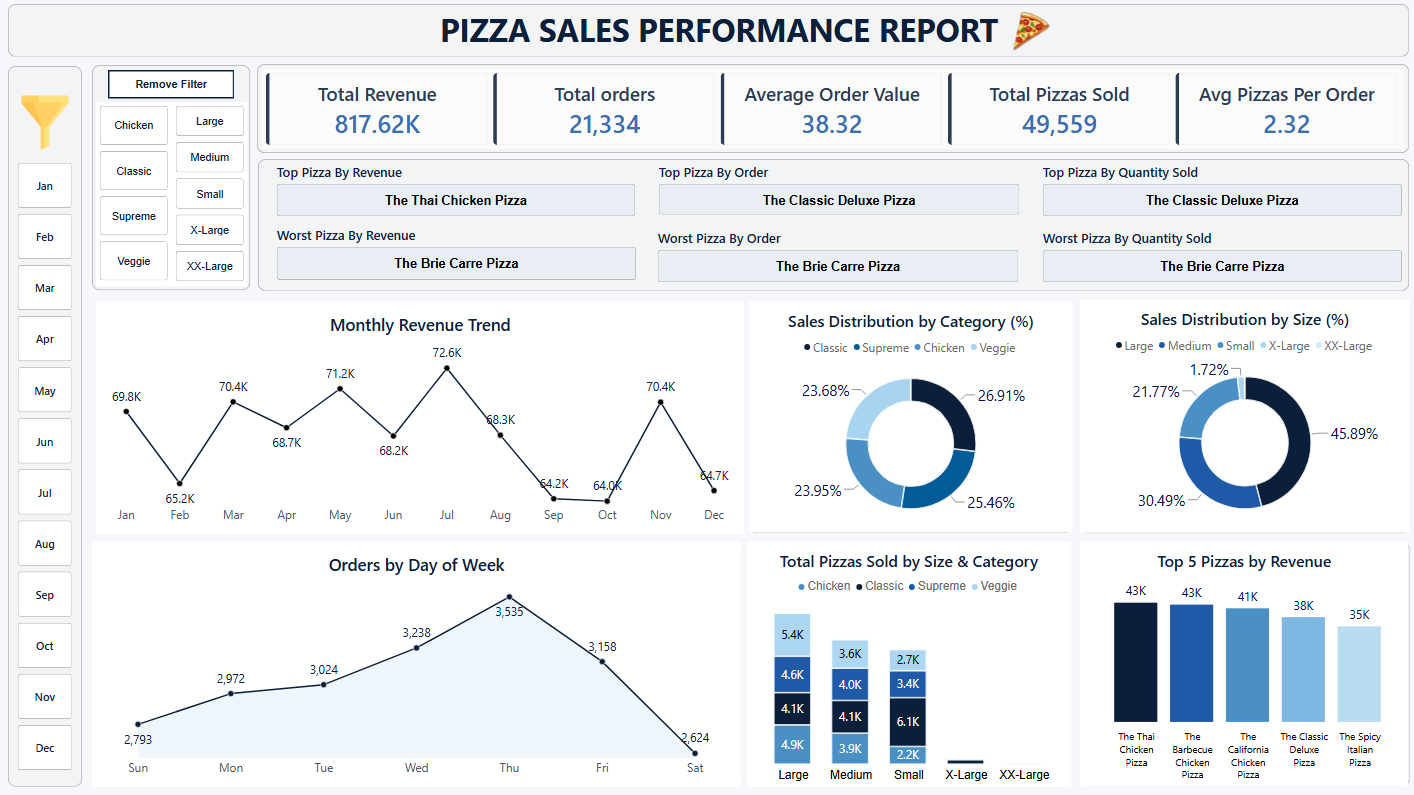

The page's visual inventory and layout, read from the dashboard file:
{"tool":"powerbi","page":{"name":"Pizza_Sale_Dashboard","canvas":[1920,1080],"ordinal":0},"visuals":[{"type":"shape","box":[138.8,410.3,875,311.2],"z":0},{"type":"shape","box":[133.4,90.5,213.5,304.1],"z":1000},{"type":"shape","box":[358.1,217.6,1554.1,178.4],"z":2000},{"type":"shape","box":[20,8.6,1891.4,71.4],"z":3000},{"type":"image","box":[1367.2,14.9,64.8,60.8],"z":4000},{"type":"textbox","box":[592.6,8.1,774.9,71.5],"z":5000},{"type":"cardVisual","fields":{"Data":["public pizza_sales.Total_Revenue","public pizza_sales.Total_orders","public pizza_sales.Avg_Order_Value","public pizza_sales.Total_Pizza_Sold","public pizza_sales.Avg_Pizza_per_Order"]},"box":[363.5,95.9,1541.9,108.1],"z":6000},{"type":"shape","box":[19.9,91.9,100,973],"z":7000},{"type":"advancedSlicerVisual","title":"Top Pizza By Order","fields":{"Values":["public pizza_sales.pizza_name"]},"box":[893.2,223,497.3,75.7],"z":8000},{"type":"advancedSlicerVisual","title":"Top Pizza By Quantity Sold","fields":{"Values":["public pizza_sales.pizza_name"]},"box":[1412.2,223,495.9,77],"z":9000},{"type":"advancedSlicerVisual","title":"Top Pizza By Revenue","fields":{"Values":["public pizza_sales.pizza_name"]},"box":[378.4,223,494.6,77],"z":10000},{"type":"shape","box":[356.4,89.2,1555.4,120.3],"z":11000},{"type":"shape","box":[133.4,735.1,875.7,329.7],"z":12000},{"type":"shape","box":[1020.6,410.3,436.5,312.2],"z":13000},{"type":"shape","box":[1467.9,407.6,444.6,314.9],"z":14000},{"type":"shape","box":[1018.6,735.1,436.5,329.7],"z":15000},{"type":"shape","box":[1467,734,445.4,329.9],"z":16000},{"type":"advancedSlicerVisual","title":"Worst Pizza By Order","fields":{"Values":["public pizza_sales.pizza_name"]},"box":[891.9,312.2,497.3,77],"z":17000},{"type":"advancedSlicerVisual","title":"Worst Pizza By Revenue","fields":{"Values":["public pizza_sales.pizza_name"]},"box":[378.4,308.1,495.9,78.4],"z":18000},{"type":"advancedSlicerVisual","title":"Worst Pizza By Quantity Sold","fields":{"Values":["public pizza_sales.pizza_name"]},"box":[1412.2,312.2,495.9,77],"z":19000},{"type":"advancedSlicerVisual","fields":{"Values":["public pizza_sales.Month Name"]},"box":[28.4,217.6,83.8,841.9],"z":20000},{"type":"image","box":[33.8,125.7,73,85.1],"z":21000},{"type":"advancedSlicerVisual","fields":{"Values":["public pizza_sales.pizza_category"]},"box":[139.2,140.5,102.7,248.6],"z":22000},{"type":"advancedSlicerVisual","fields":{"Values":["public pizza_sales.pizza_size"]},"box":[241.8,140.2,102.5,249.2],"z":23000},{"type":"actionButton","title":"njytujytujt","box":[154.9,97.5,170.5,38.5],"z":24000},{"type":"lineChart","title":"Monthly Revenue Trend","fields":{"Y":["Sum(public pizza_sales.total_price)"],"Category":["public pizza_sales.Month Name"]},"box":[139.2,410.3,875.3,313.4],"z":25000},{"type":"lineChart","title":"Orders by Day of Week","fields":{"Y":["public pizza_sales.Total_orders"],"Category":["public pizza_sales.Day Name"]},"box":[133,734,876.3,330.9],"z":26000},{"type":"donutChart","title":"Sales Distribution by Category (%)","fields":{"Y":["Sum(public pizza_sales.total_price)"],"Category":["public pizza_sales.pizza_category"]},"box":[1020.6,410.3,437.1,311.3],"z":27000},{"type":"donutChart","title":"Sales Distribution by Size (%)","fields":{"Y":["Sum(public pizza_sales.total_price)"],"Category":["public pizza_sales.pizza_size"]},"box":[1467,407.2,445.4,314.4],"z":28000},{"type":"columnChart","title":"Total Pizzas Sold by Size & Category","fields":{"Category":["public pizza_sales.pizza_size"],"Y":["Sum(public pizza_sales.quantity)"],"Series":["public pizza_sales.pizza_category"]},"box":[1018.6,734,437.1,330.9],"z":29000},{"type":"columnChart","title":"Top 5 Pizzas by Revenue","fields":{"Category":["public pizza_sales.pizza_name"],"Y":["Sum(public pizza_sales.total_price)"]},"box":[1467,734,443.3,329.9],"z":30000}]}

Visuals, with their boxes in screenshot pixels (x1, y1, x2, y2), scaled from the page's 1920x1080 canvas onto the 1414x795 screenshot:
shape: left=102, top=302, right=747, bottom=531
shape: left=98, top=67, right=255, bottom=290
shape: left=264, top=160, right=1408, bottom=292
shape: left=15, top=6, right=1408, bottom=59
image: left=1007, top=11, right=1055, bottom=56
textbox: left=436, top=6, right=1007, bottom=59
cardVisual - public pizza_sales.Total_Revenue x public pizza_sales.Total_orders: left=268, top=71, right=1403, bottom=150
shape: left=15, top=68, right=88, bottom=784
"Top Pizza By Order" advancedSlicerVisual: left=658, top=164, right=1024, bottom=220
"Top Pizza By Quantity Sold" advancedSlicerVisual: left=1040, top=164, right=1405, bottom=221
"Top Pizza By Revenue" advancedSlicerVisual: left=279, top=164, right=643, bottom=221
shape: left=262, top=66, right=1408, bottom=154
shape: left=98, top=541, right=743, bottom=784
shape: left=752, top=302, right=1073, bottom=532
shape: left=1081, top=300, right=1408, bottom=532
shape: left=750, top=541, right=1072, bottom=784
shape: left=1080, top=540, right=1408, bottom=783
"Worst Pizza By Order" advancedSlicerVisual: left=657, top=230, right=1023, bottom=286
"Worst Pizza By Revenue" advancedSlicerVisual: left=279, top=227, right=644, bottom=285
"Worst Pizza By Quantity Sold" advancedSlicerVisual: left=1040, top=230, right=1405, bottom=286
advancedSlicerVisual - public pizza_sales.Month Name: left=21, top=160, right=83, bottom=780
image: left=25, top=93, right=79, bottom=155
advancedSlicerVisual - public pizza_sales.pizza_category: left=103, top=103, right=178, bottom=286
advancedSlicerVisual - public pizza_sales.pizza_size: left=178, top=103, right=254, bottom=287
"njytujytujt" actionButton: left=114, top=72, right=240, bottom=100
"Monthly Revenue Trend" lineChart: left=103, top=302, right=747, bottom=533
"Orders by Day of Week" lineChart: left=98, top=540, right=743, bottom=784
"Sales Distribution by Category (%)" donutChart: left=752, top=302, right=1074, bottom=531
"Sales Distribution by Size (%)" donutChart: left=1080, top=300, right=1408, bottom=531
"Total Pizzas Sold by Size & Category" columnChart: left=750, top=540, right=1072, bottom=784
"Top 5 Pizzas by Revenue" columnChart: left=1080, top=540, right=1407, bottom=783
